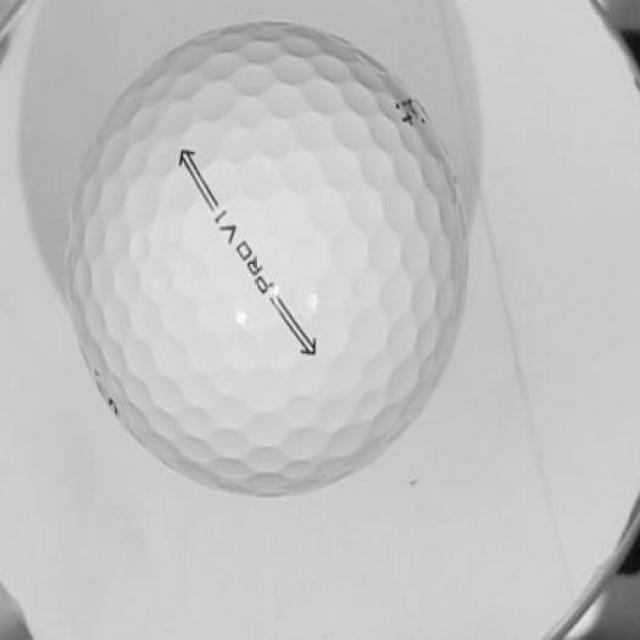golfball: (63, 41, 465, 487), (187, 175, 238, 244)
